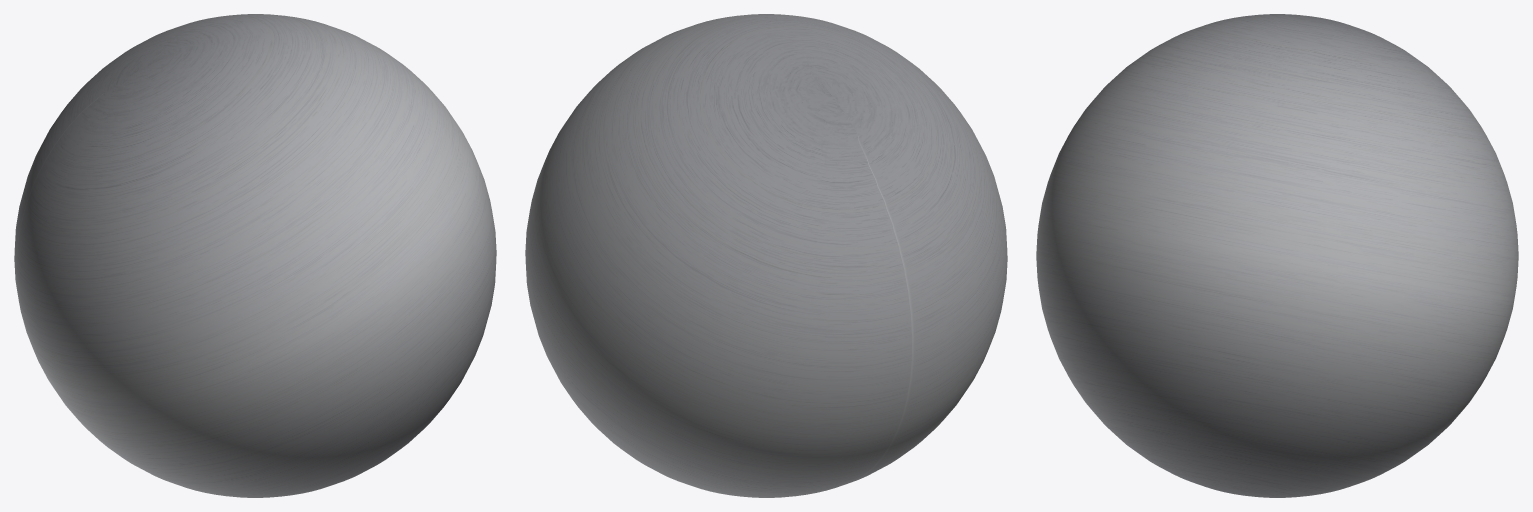
Rendered from ball.obj.
3 renders of one model, left to right at view 1: azimuth 30°, elevation 25°; view 2: azimuth 150°, elevation 25°; view 3: azimuth 270°, elevation 25°, orthographic.
Visible parts, largest first — view 1: Sphere; view 2: Sphere; view 3: Sphere.
Boxes of the visible parts, x1,y1,x2,y2 form: Sphere: (14,14,496,497); Sphere: (525,14,1007,497); Sphere: (1036,14,1518,497).
Size of the model in its own units: 1.98 by 2 by 1.98.
Materials: 1 (1 with a texture image).
